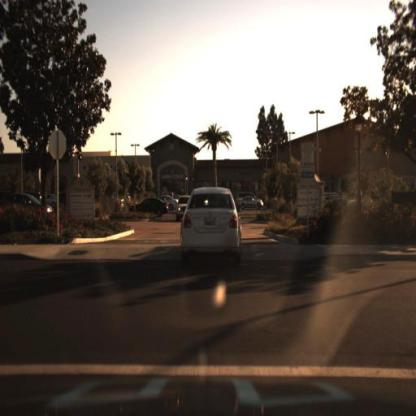car: (179, 187, 244, 263), (1, 193, 59, 227), (127, 196, 171, 217), (176, 192, 193, 227), (237, 194, 264, 214), (240, 196, 266, 212)
